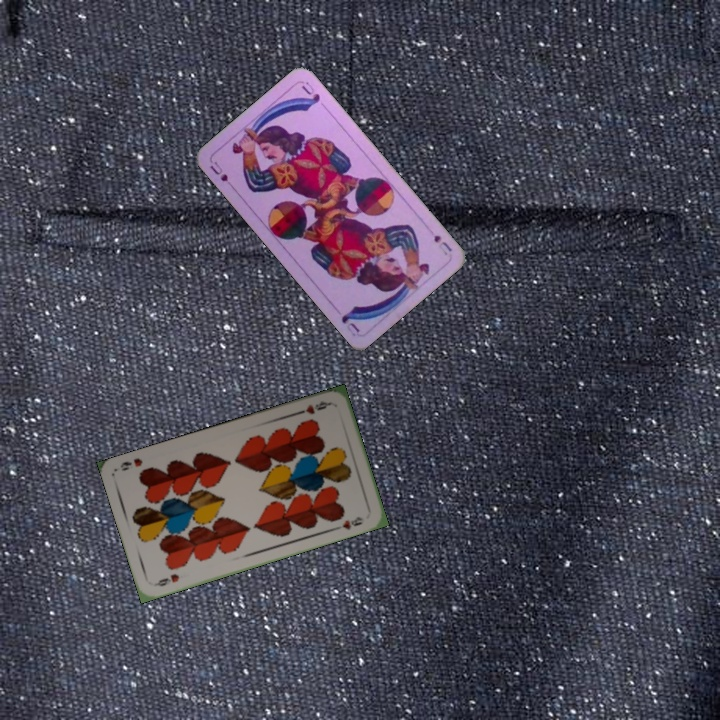H9: (294, 397, 334, 417), (150, 570, 182, 589)
SU: (206, 157, 237, 192), (430, 231, 454, 258)
